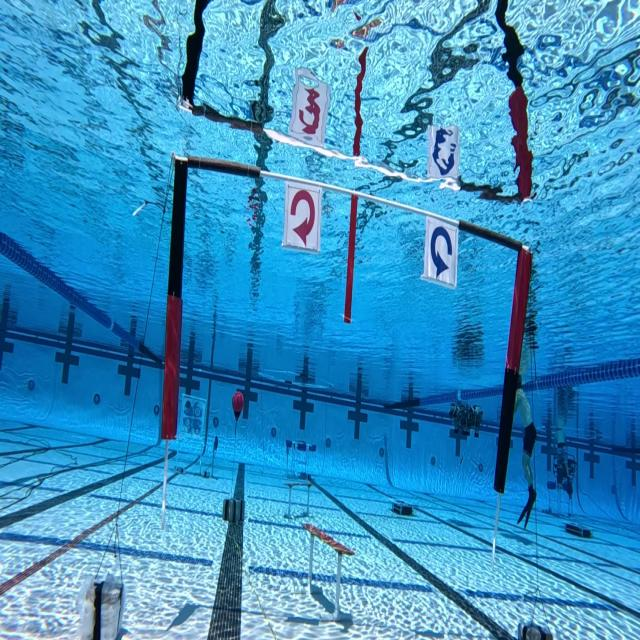blue_side: (424, 209, 460, 287)
red_side: (284, 178, 318, 247)
